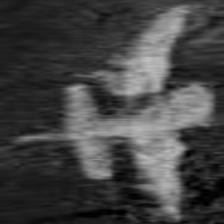plane: (18, 7, 214, 218)
